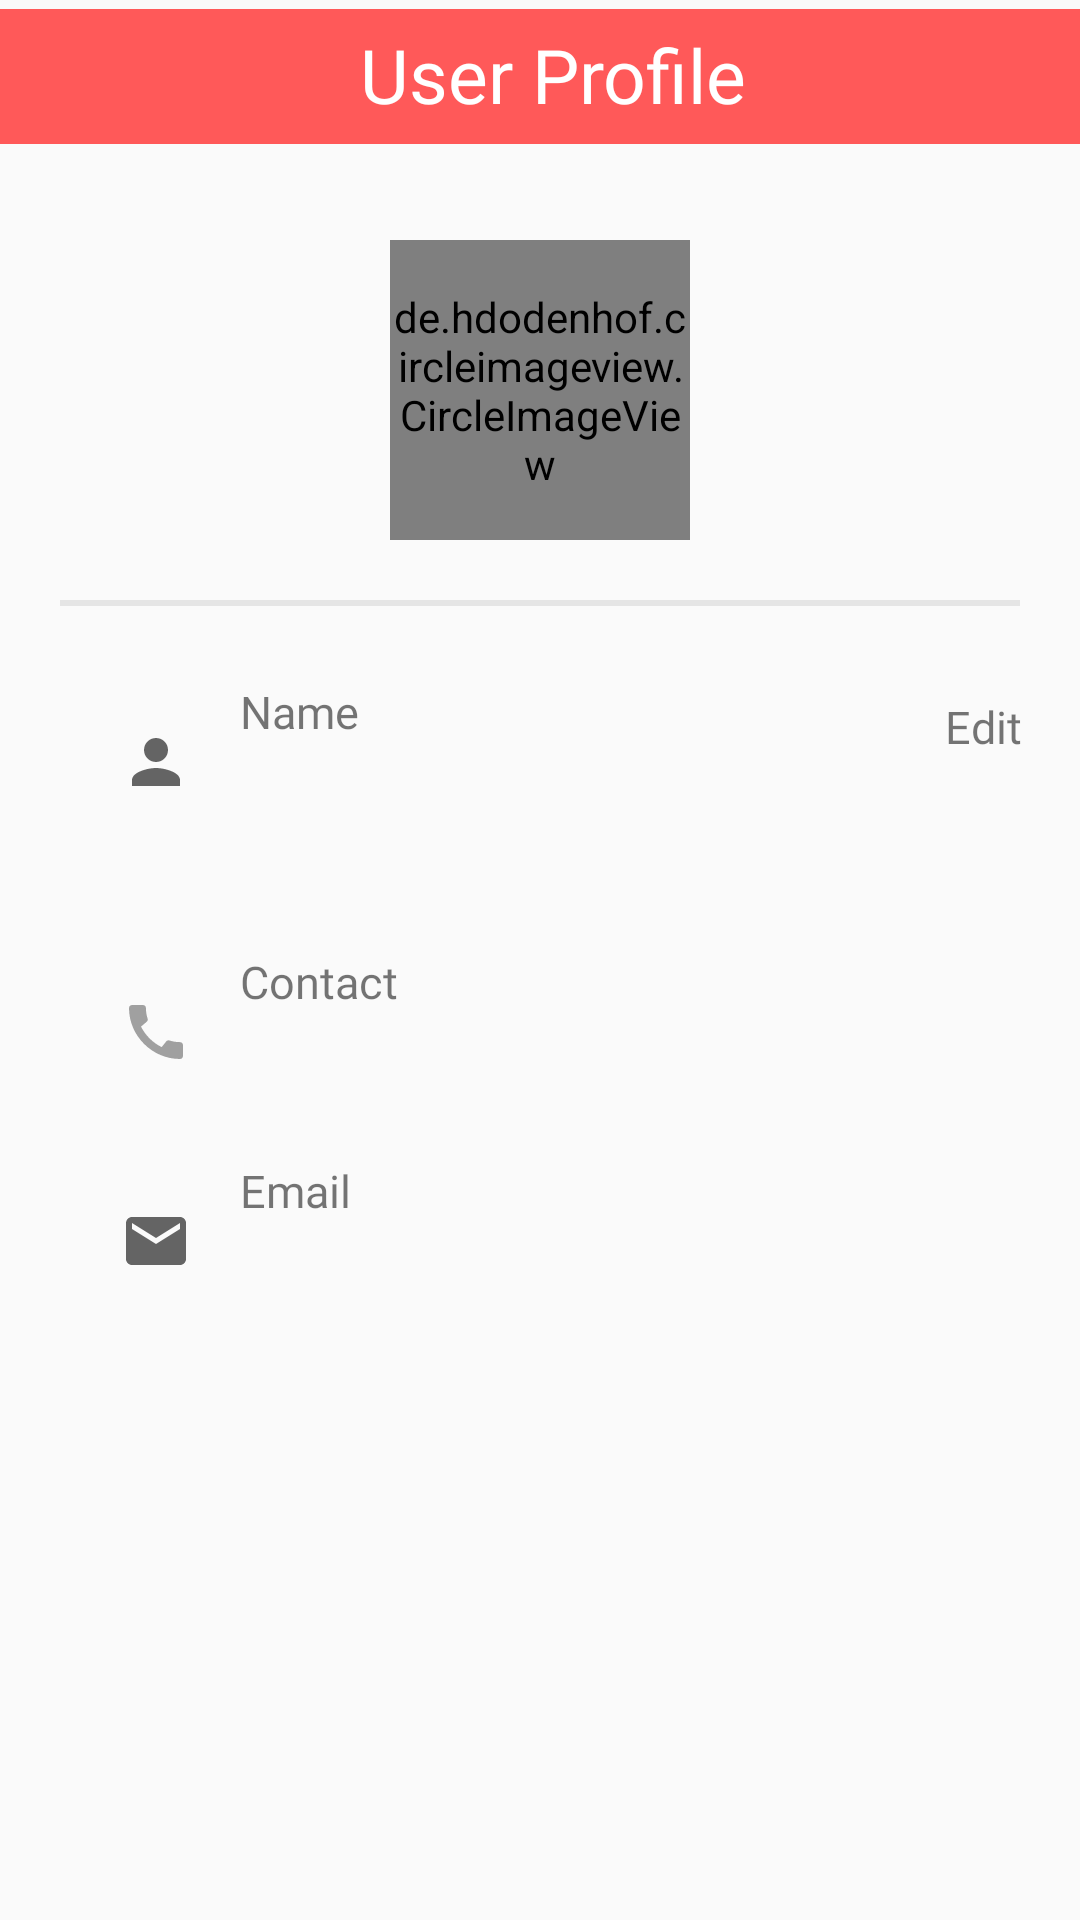

Where to tap for icons on this 1080*1920 app screen, as (x=x, y=y):
call: (x=156, y=1032)
person: (x=156, y=762)
